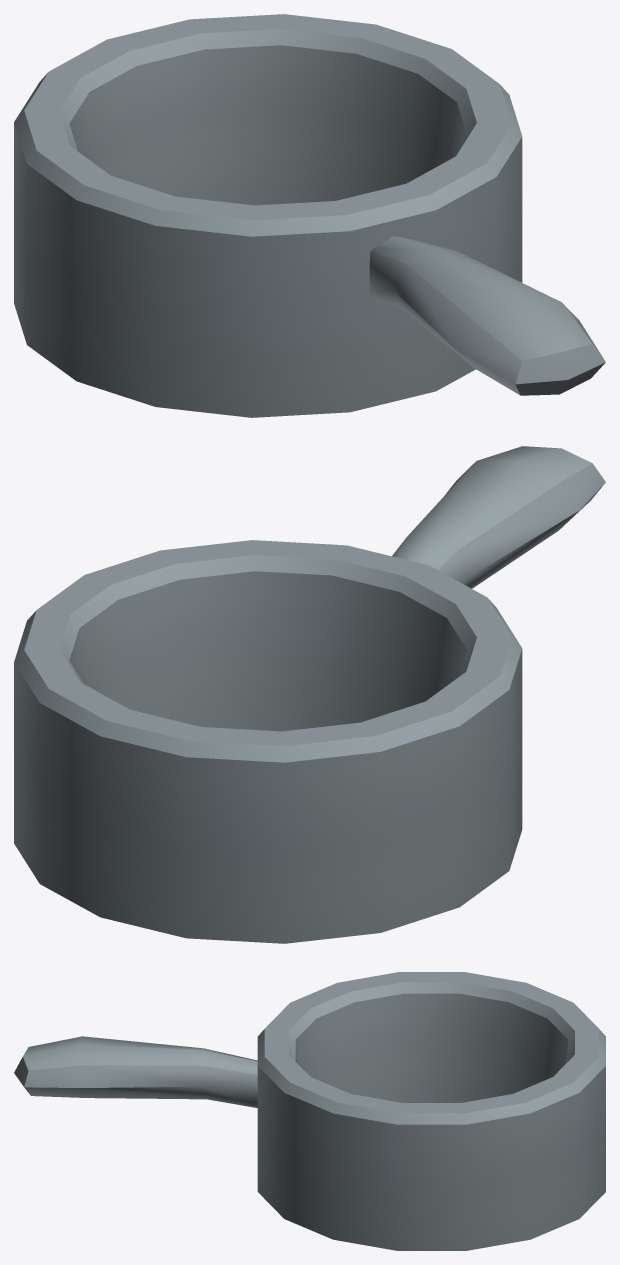
The model's file is kkr.pan_006.glb.
3 renders of one model, top to bottom at view 1: azimuth 30°, elevation 25°; view 2: azimuth 150°, elevation 25°; view 3: azimuth 270°, elevation 25°, orthographic. The views are drawn at different scales.
Visible parts, largest first — view 1: pan.006; view 2: pan.006; view 3: pan.006.
Boxes of the visible parts, x1,y1,x2,y2 form: pan.006: (14,14,605,417); pan.006: (14,446,605,943); pan.006: (14,972,605,1250).
Bounding box in the file's own units: 0.2067 × 0.0965 × 0.3515.
1 material, 1 textured.
